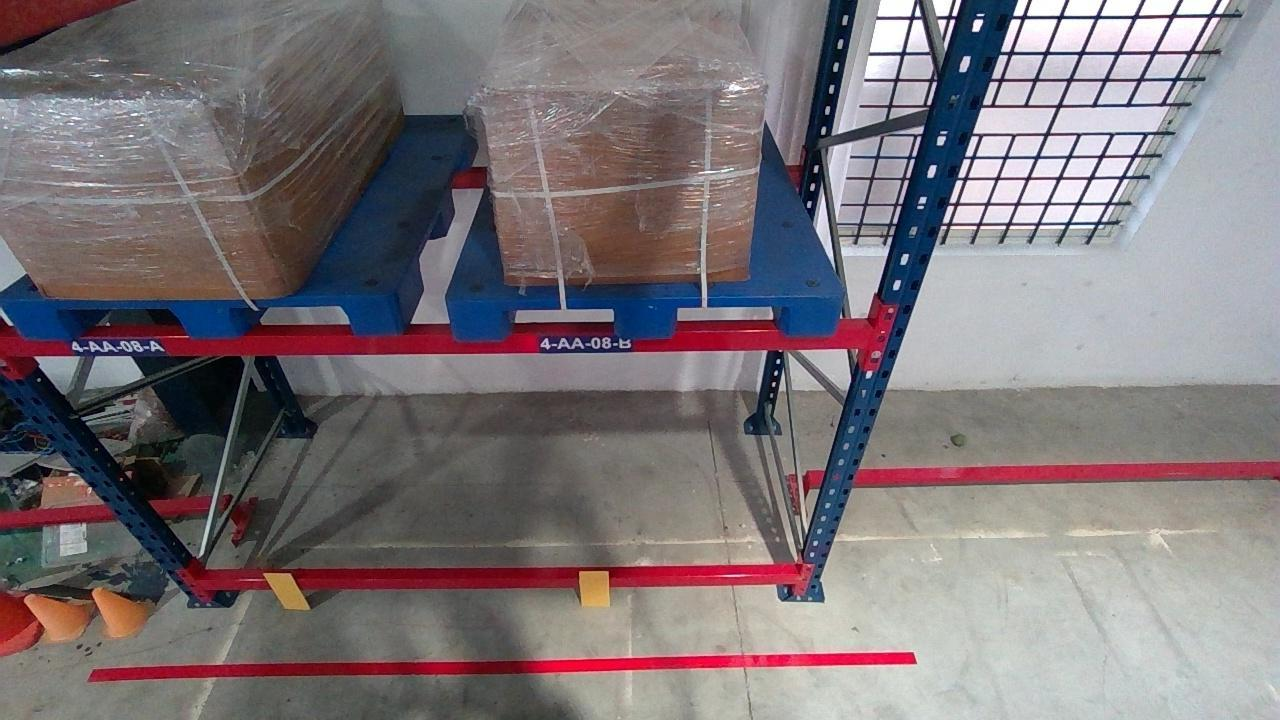h_rack: (8, 325, 869, 356), (185, 571, 796, 591)
orange_strip: (261, 571, 312, 609), (576, 569, 609, 606)
red_line: (86, 651, 919, 677)
small_pallet: (2, 295, 397, 336), (447, 295, 841, 336)
